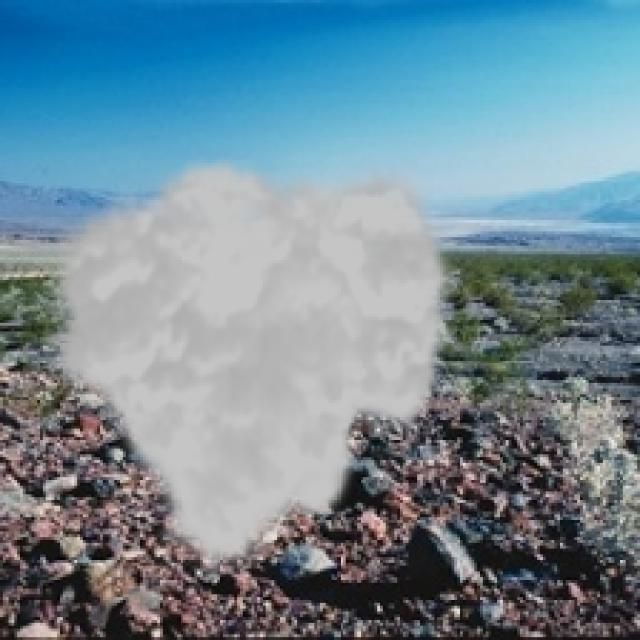smoke: (37, 154, 460, 580)
